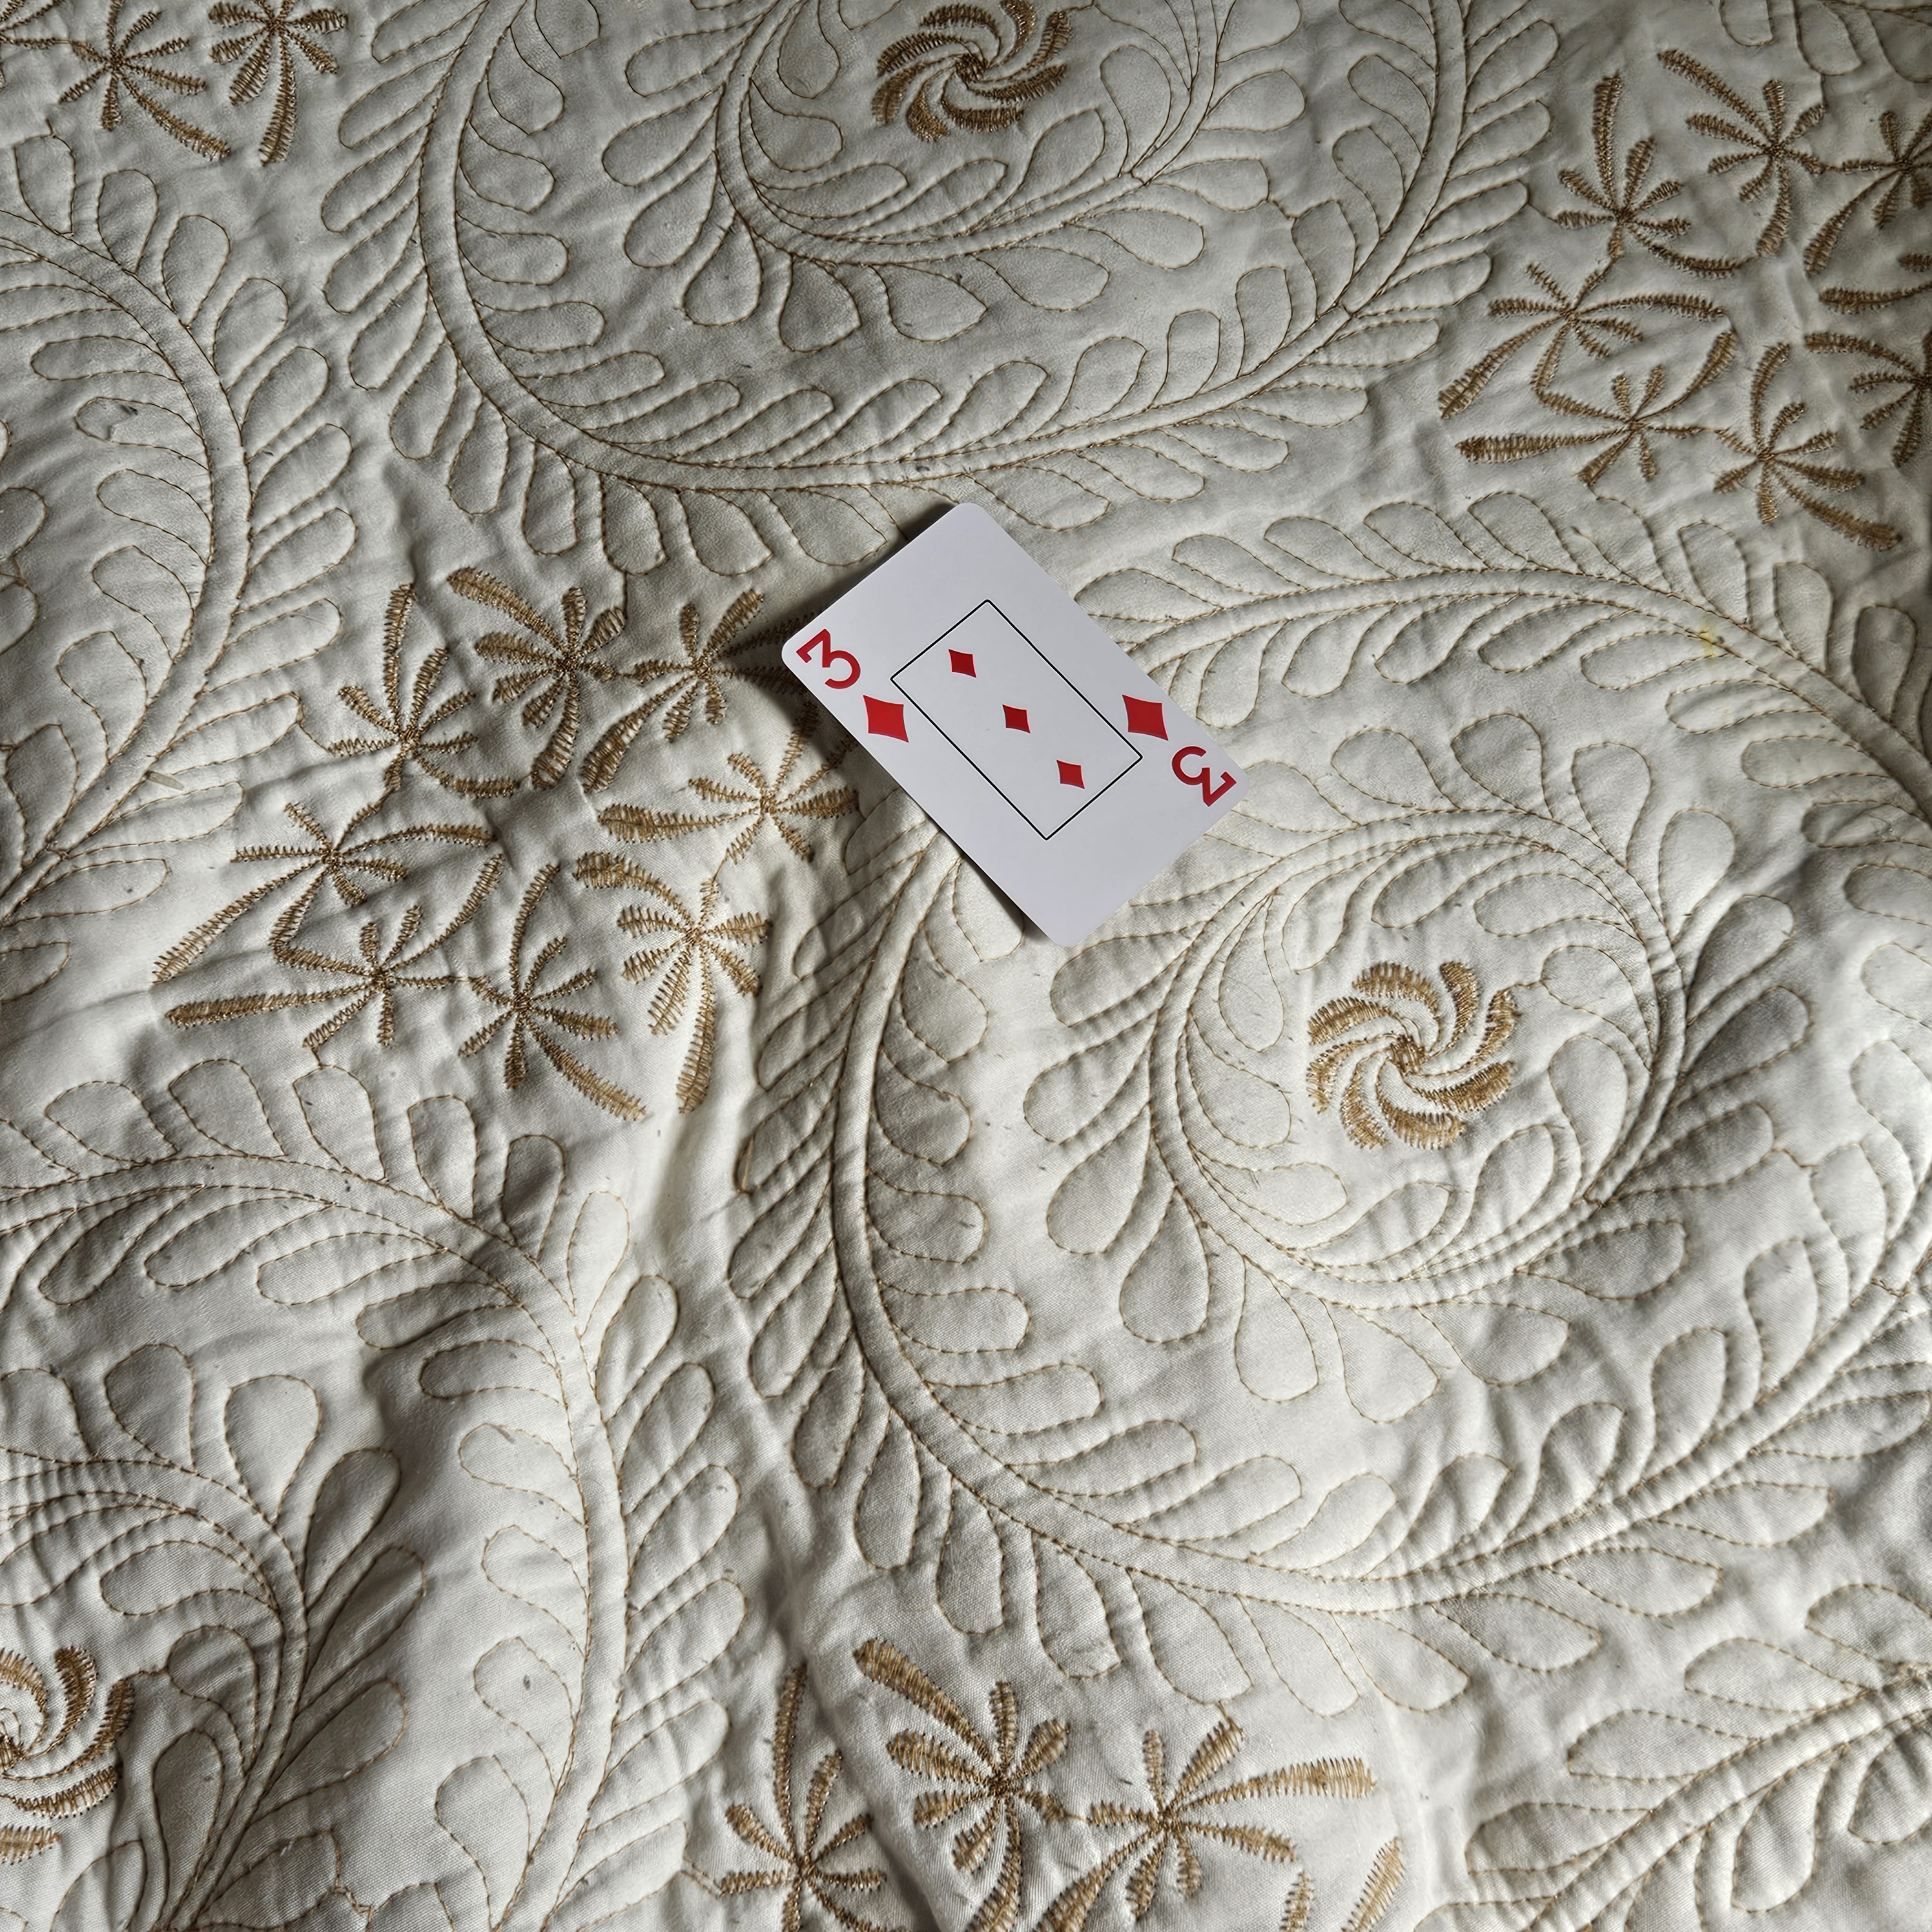3O: (1111, 678, 1247, 817), (787, 617, 920, 755)
